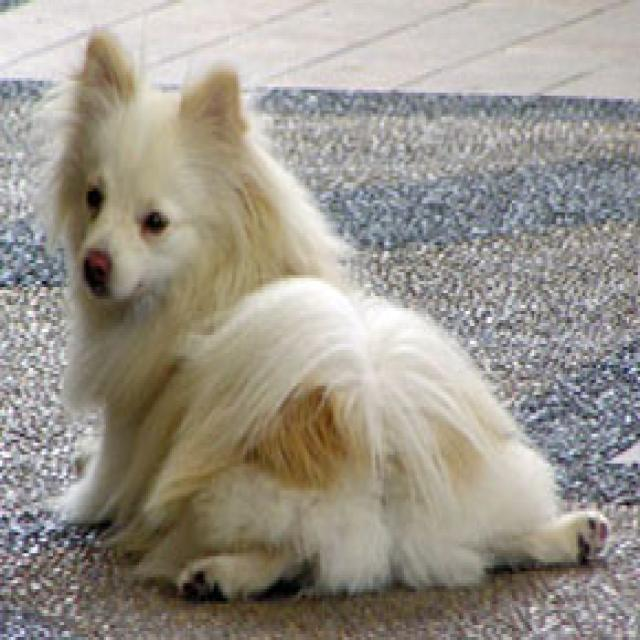dog-pomeranian: (40, 24, 618, 604)
